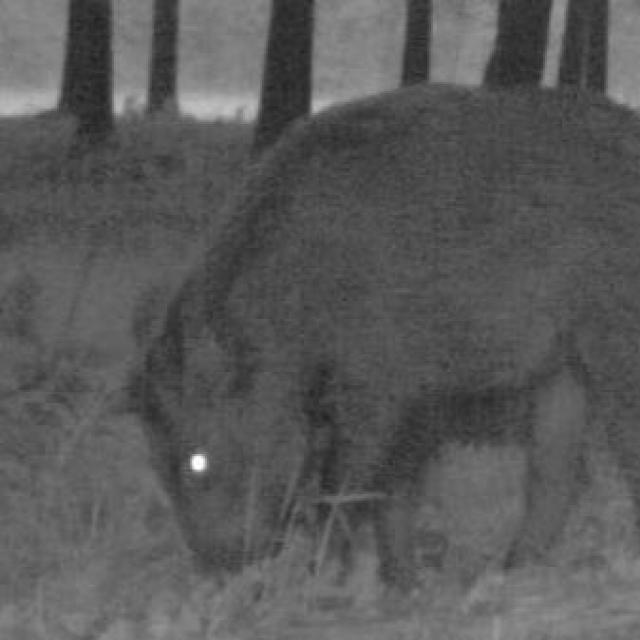pig: (138, 25, 640, 627)
